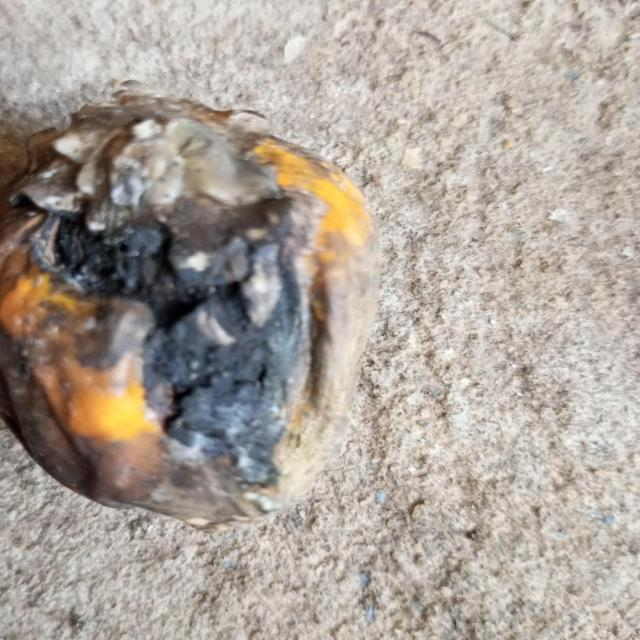damaged: (0, 84, 382, 531)
